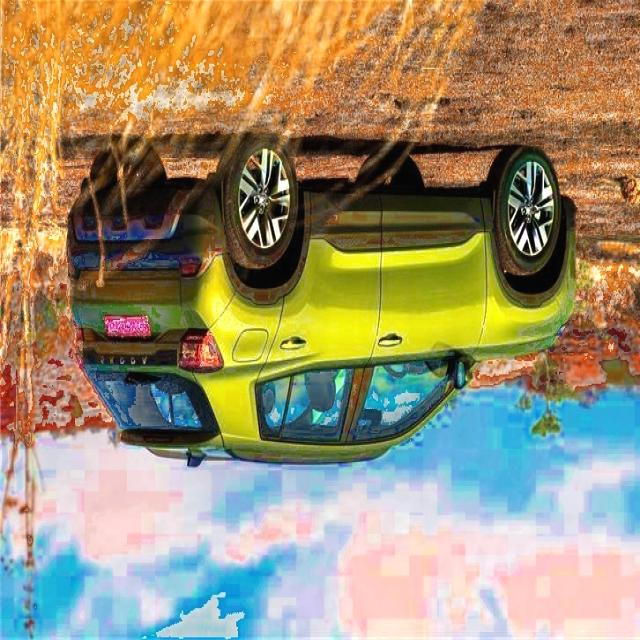green: (61, 136, 587, 465)
